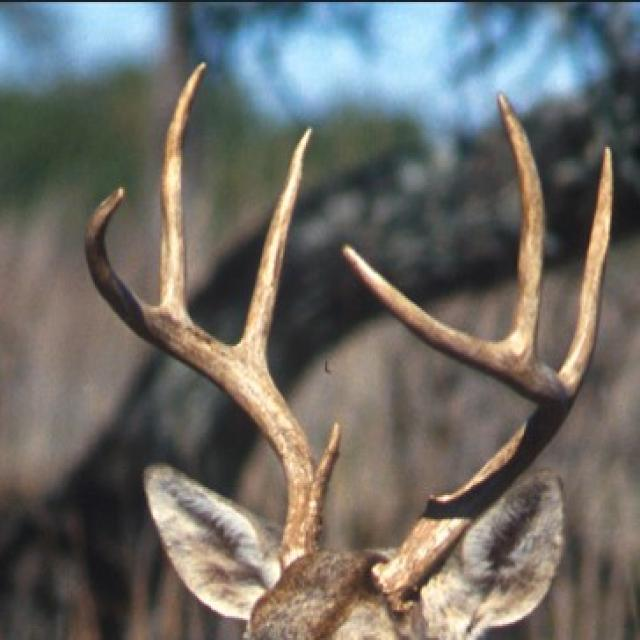L-F: (339, 243, 571, 614)
L-G2: (558, 144, 614, 400)
L-G3: (496, 92, 545, 361)
R-F: (85, 185, 319, 566)
R-G1: (315, 421, 341, 502)
R-G2: (238, 127, 313, 366)
R-G3: (158, 60, 209, 319)
